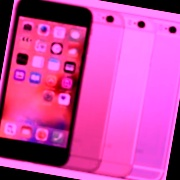iphone: (98, 10, 178, 172)
